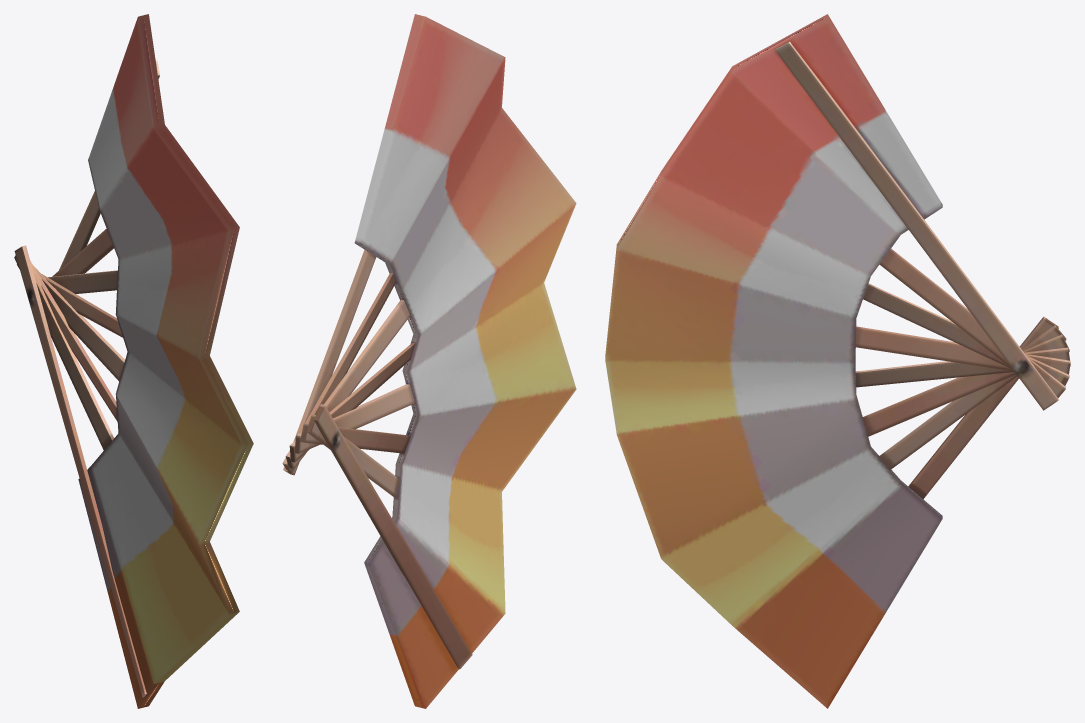
The picture shows the model from 3 angles, left to right: view 1: azimuth 30°, elevation 25°; view 2: azimuth 150°, elevation 25°; view 3: azimuth 270°, elevation 25°; orthographic projection.
Parts seen in each view (by area): view 1: mDagger; view 2: mDagger; view 3: mDagger.
Part boxes in pixels (x1,y1,x2,y2): mDagger: (14, 14, 253, 708); mDagger: (282, 14, 576, 708); mDagger: (605, 14, 1070, 708).
Bounding box in the file's own units: 0.0329 × 0.3029 × 0.1852.
1 material, 1 textured.
